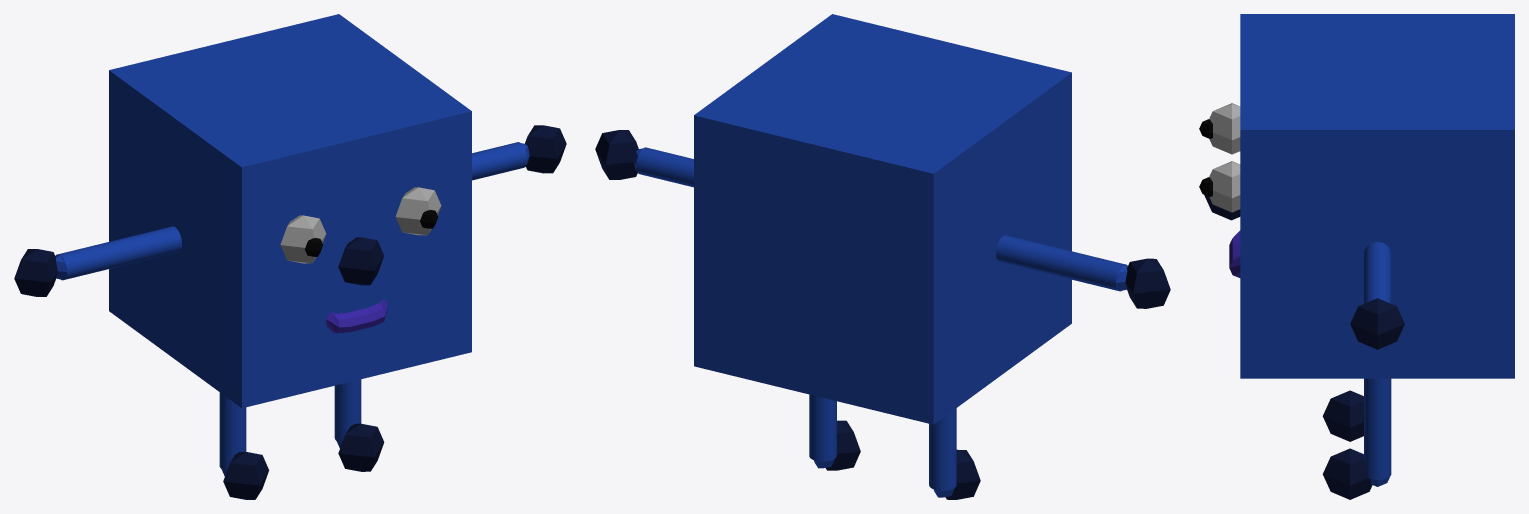
Rendered from character.obj.
The picture shows the model from 3 angles, left to right: view 1: azimuth 30°, elevation 25°; view 2: azimuth 150°, elevation 25°; view 3: azimuth 270°, elevation 25°; orthographic projection. The views are drawn at different scales.
Visible parts, largest first — view 1: Body_BodyMesh, LeftHand.002_RightWristMesh.007, LeftHand.001_RightWristMesh.005, Nose_RightWristMesh.008, LeftHand_RightWristMesh.003, LeftLowerArm_RightLowerARmMesh.001, LeftUpperArm_RightUpperArmMesh.001, RightHand_RightWristMesh.001, RightLowerArm_RightLowerARmMesh, RightEye_RightWristMesh.010, LeftEye_RightWristMesh.009, LeftLowerArm.001_RightLowerARmMesh.002 (+2 smaller); view 2: Body_BodyMesh, LeftHand_RightWristMesh.003, LeftLowerArm_RightLowerARmMesh.001, LeftLowerArm.001_RightLowerARmMesh.002, LeftUpperArm_RightUpperArmMesh.001, LeftLowerArm.002_RightLowerARmMesh.003, RightHand_RightWristMesh.001, RightLowerArm_RightLowerARmMesh, LeftHand.001_RightWristMesh.005, LeftHand.002_RightWristMesh.007; view 3: Body_BodyMesh, RightHand_RightWristMesh.001, LeftHand.002_RightWristMesh.007, LeftLowerArm.002_RightLowerARmMesh.003, LeftHand.001_RightWristMesh.005, RightEye_RightWristMesh.010, LeftEye_RightWristMesh.009, LeftUpperArm.002_RightUpperArmMesh.003, RightUpperArm_RightUpperArmMesh, RightLowerArm_RightLowerARmMesh, RightPupil.002_RightWristMesh.013.
Boxes of the visible parts, box(x1,y1,x2,y2) form: Body_BodyMesh: box(109, 14, 471, 408); LeftHand.002_RightWristMesh.007: box(338, 423, 384, 471); LeftHand.001_RightWristMesh.005: box(223, 451, 269, 499); Nose_RightWristMesh.008: box(338, 237, 384, 285); LeftHand_RightWristMesh.003: box(14, 249, 57, 296); LeftLowerArm_RightLowerARmMesh.001: box(56, 240, 124, 280); LeftUpperArm_RightUpperArmMesh.001: box(116, 226, 181, 265); RightHand_RightWristMesh.001: box(525, 125, 566, 173); RightLowerArm_RightLowerARmMesh: box(472, 142, 527, 180); RightEye_RightWristMesh.010: box(395, 187, 441, 235); LeftEye_RightWristMesh.009: box(280, 215, 326, 263); LeftLowerArm.001_RightLowerARmMesh.002: box(219, 407, 246, 470); Body_BodyMesh: box(694, 14, 1071, 424); LeftHand_RightWristMesh.003: box(1125, 258, 1170, 308); LeftLowerArm_RightLowerARmMesh.001: box(1056, 250, 1126, 291); LeftLowerArm.001_RightLowerARmMesh.002: box(929, 423, 956, 490); LeftUpperArm_RightUpperArmMesh.001: box(996, 235, 1064, 276); LeftLowerArm.002_RightLowerARmMesh.003: box(809, 394, 836, 461); RightHand_RightWristMesh.001: box(595, 130, 638, 179); RightLowerArm_RightLowerARmMesh: box(636, 147, 693, 187); LeftHand.001_RightWristMesh.005: box(945, 449, 980, 499); LeftHand.002_RightWristMesh.007: box(825, 420, 860, 470); Body_BodyMesh: box(1240, 14, 1514, 378); RightHand_RightWristMesh.001: box(1350, 298, 1404, 349); LeftHand.002_RightWristMesh.007: box(1322, 448, 1372, 499); LeftLowerArm.002_RightLowerARmMesh.003: box(1364, 413, 1391, 479); LeftHand.001_RightWristMesh.005: box(1322, 390, 1363, 441); RightEye_RightWristMesh.010: box(1209, 161, 1240, 212); LeftEye_RightWristMesh.009: box(1209, 103, 1240, 154); LeftUpperArm.002_RightUpperArmMesh.003: box(1364, 378, 1391, 417); RightUpperArm_RightUpperArmMesh: box(1364, 242, 1391, 281); RightLowerArm_RightLowerARmMesh: box(1364, 271, 1391, 303); RightPupil.002_RightWristMesh.013: box(1229, 230, 1240, 277).
Bounding box in the file's own units: 4.8 × 3.2 × 2.3.
